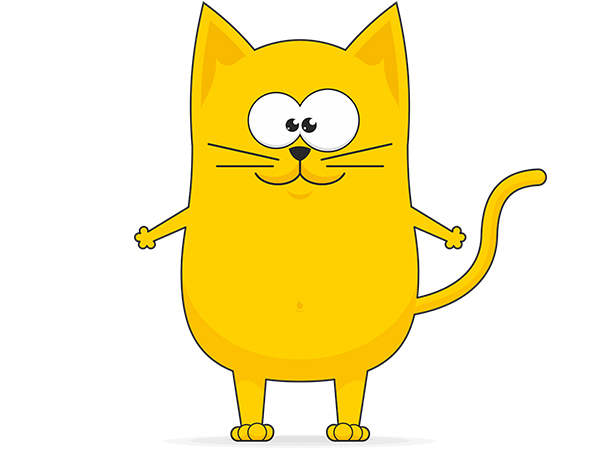cat: (150, 1, 475, 450)
